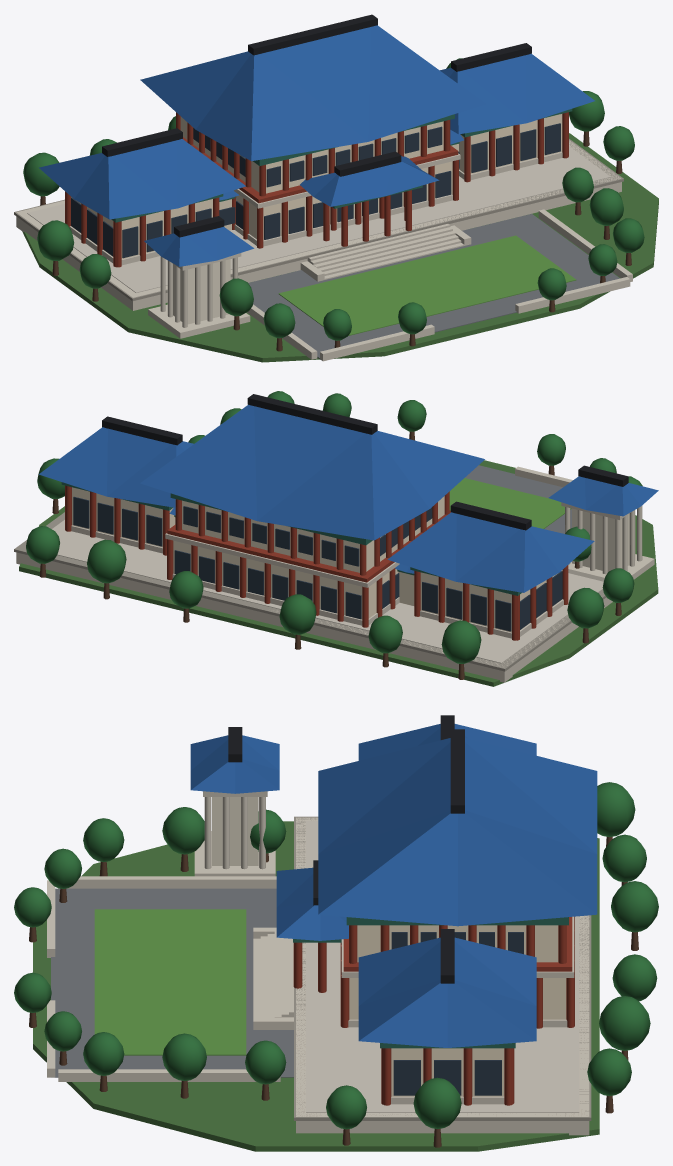
File: cheongwadae.glb
3 renders of one model, top to bottom at view 1: azimuth 30°, elevation 25°; view 2: azimuth 150°, elevation 25°; view 3: azimuth 270°, elevation 25°, orthographic. The views are drawn at different scales.
Bounding box in the file's own units: 80.76 × 24.2 × 63.75.
